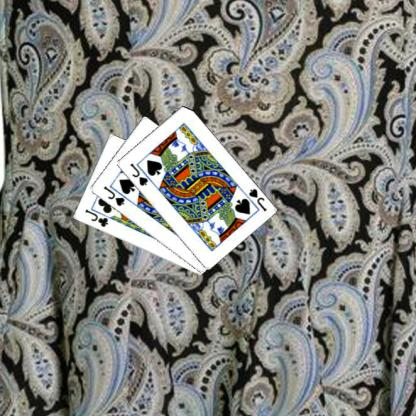JC: (82, 206, 109, 229)
JS: (245, 185, 268, 213), (100, 184, 126, 208), (127, 160, 149, 188)
